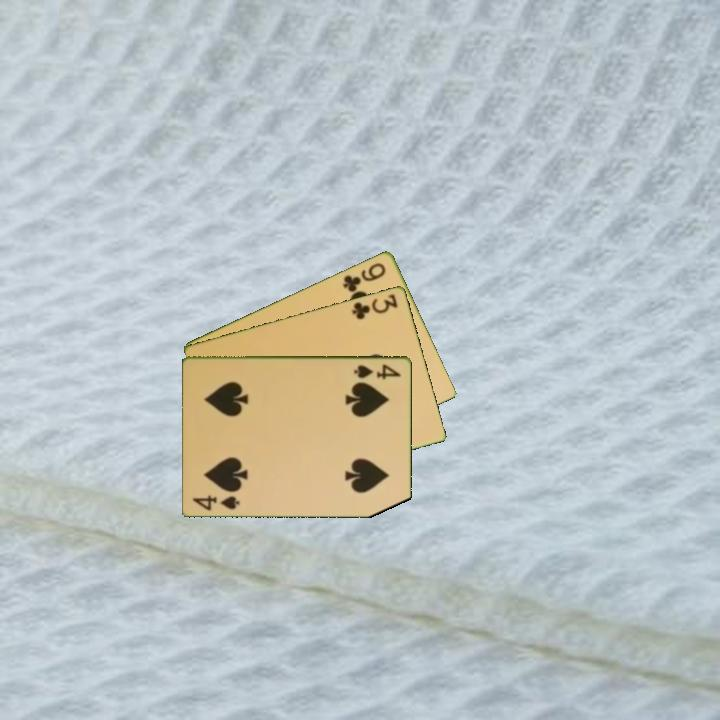3c: (348, 290, 401, 322)
4s: (189, 491, 243, 513), (351, 360, 404, 381)
9c: (340, 259, 389, 295)
